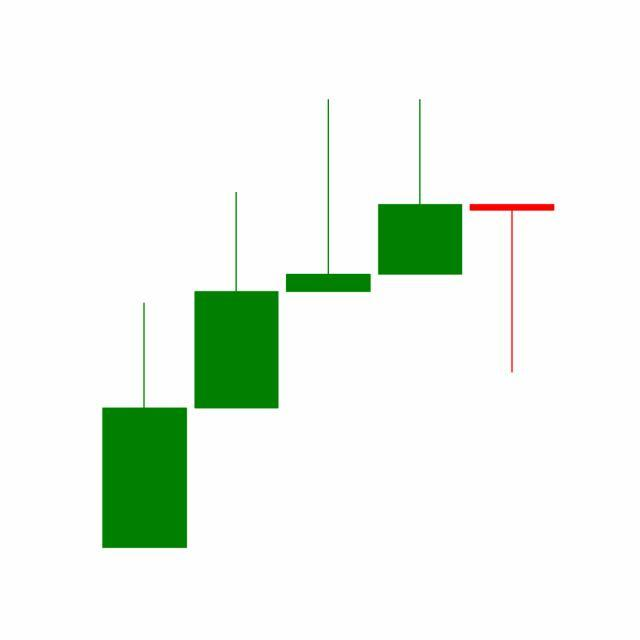Dragonfly Doji: (466, 202, 559, 375)
